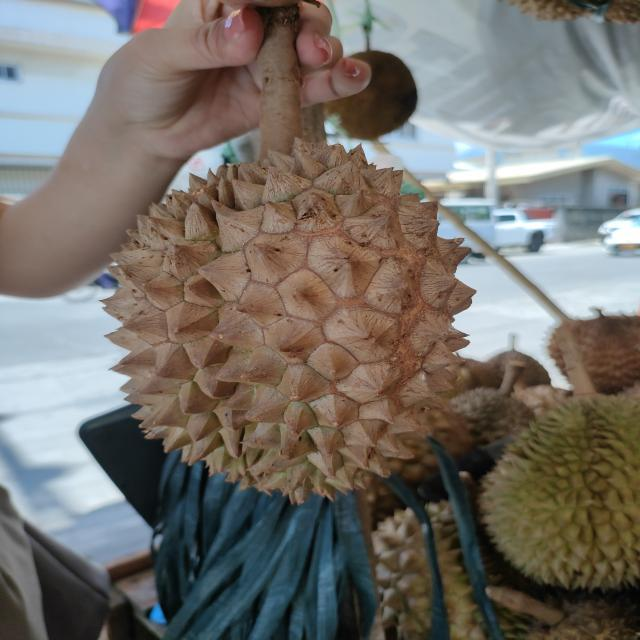mature: (96, 136, 480, 506)
